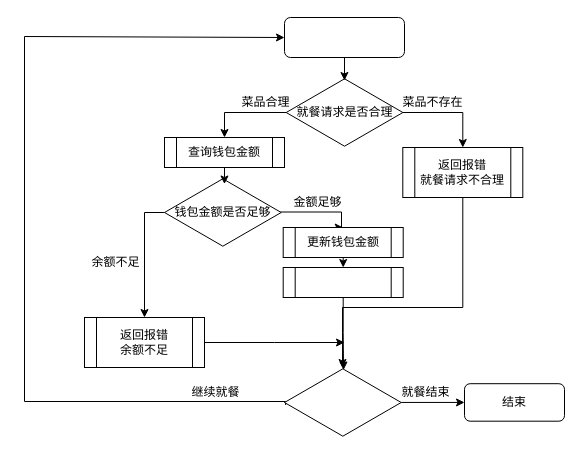
The diagram is 582 pixels wide and 455 high, and some of its shapes have lost their labels. Here are the shapes that lost their labels. From the top down, the centre of each, then its label:
point (344, 37): 消费者前来就餐
point (342, 282): 更新消费记录
point (342, 402): 是否继续就餐
